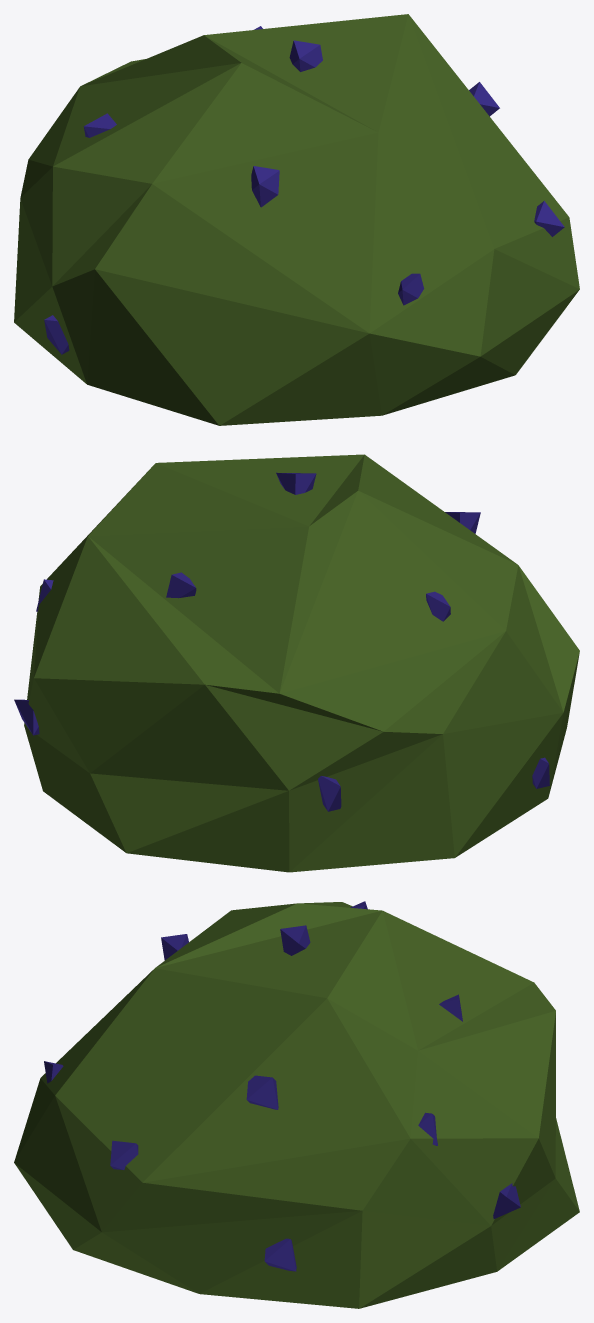
File: Berry Bush 3.glb
3 views of the same model, one above another, from view 1: azimuth 30°, elevation 25°; view 2: azimuth 150°, elevation 25°; view 3: azimuth 270°, elevation 25° (orthographic). The views are drawn at different scales.
Parts seen in each view (by area): view 1: Berry Bush 3; view 2: Berry Bush 3; view 3: Berry Bush 3.
Boxes of the visible parts, box(x1,y1,x2,y2) form: Berry Bush 3: box(14, 14, 579, 425); Berry Bush 3: box(14, 454, 579, 872); Berry Bush 3: box(14, 901, 579, 1308).
Size of the model in its own units: 0.544 by 0.2995 by 0.5612.
